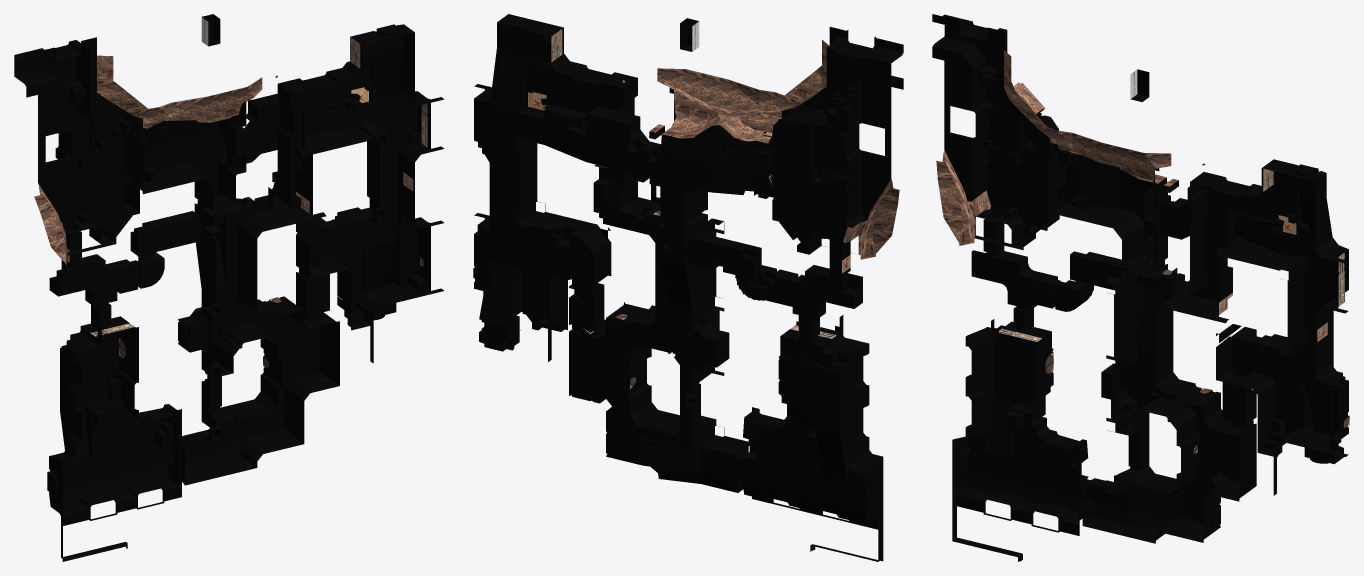
File: de_dust2.obj
The picture shows the model from 3 angles, left to right: view 1: azimuth 30°, elevation 25°; view 2: azimuth 150°, elevation 25°; view 3: azimuth 330°, elevation 25°; orthographic projection. The views are drawn at different scales.
Visible parts, largest first — view 1: de_dust2:BSP_Object_model_0; view 2: de_dust2:BSP_Object_model_0; view 3: de_dust2:BSP_Object_model_0.
Part boxes in pixels (x1,y1,x2,y2): de_dust2:BSP_Object_model_0: (14,14,444,561); de_dust2:BSP_Object_model_0: (473,14,903,561); de_dust2:BSP_Object_model_0: (932,14,1349,561).
Size of the model in its own units: 4480 by 5312 by 608.
14 materials, 13 textured.
